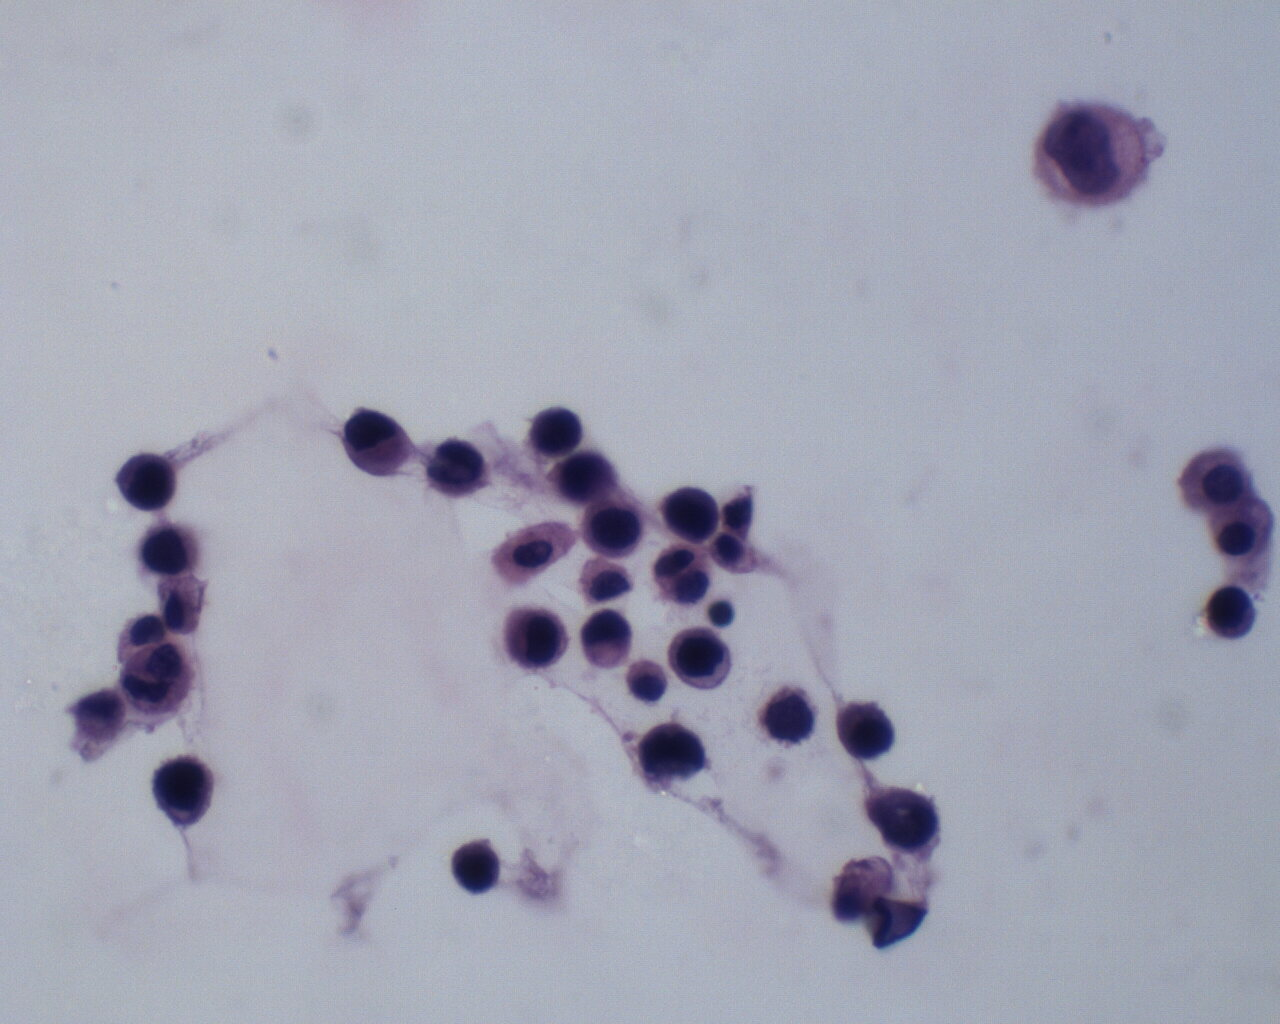ab: (1030, 93, 1151, 209), (149, 754, 220, 833), (504, 602, 573, 674), (665, 628, 738, 695), (656, 480, 727, 544), (576, 498, 644, 562), (115, 452, 185, 512), (523, 405, 594, 465), (836, 702, 901, 766), (760, 685, 820, 748), (1205, 583, 1261, 643), (447, 837, 503, 897)
meso: (1176, 443, 1257, 509), (1206, 497, 1277, 565)
